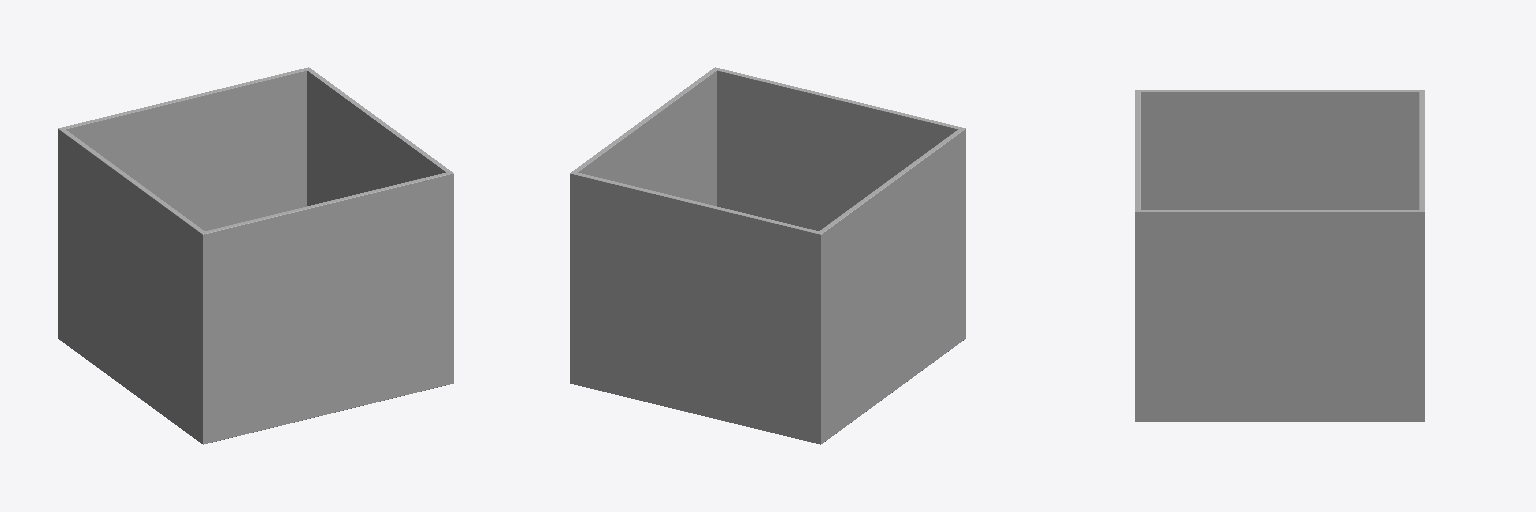
3 renders of one model, left to right at view 1: azimuth 30°, elevation 25°; view 2: azimuth 150°, elevation 25°; view 3: azimuth 270°, elevation 25°, orthographic.
Parts seen in each view (by area): view 1: 303465_23_06_21_03_10_50_1; view 2: 303465_23_06_21_03_10_50_1; view 3: 303465_23_06_21_03_10_50_1.
Part boxes in pixels (bbox=[...]): 303465_23_06_21_03_10_50_1: bbox=[58, 67, 453, 444]; 303465_23_06_21_03_10_50_1: bbox=[570, 67, 965, 444]; 303465_23_06_21_03_10_50_1: bbox=[1135, 90, 1424, 421].
Size of the model in its own units: 2 by 1.6 by 2.
Materials: 1 (1 with a texture image).